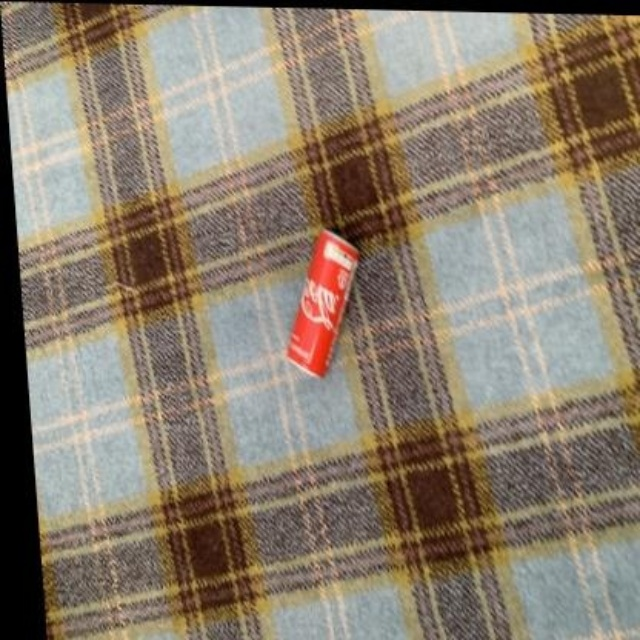trash: (286, 229, 357, 375)
